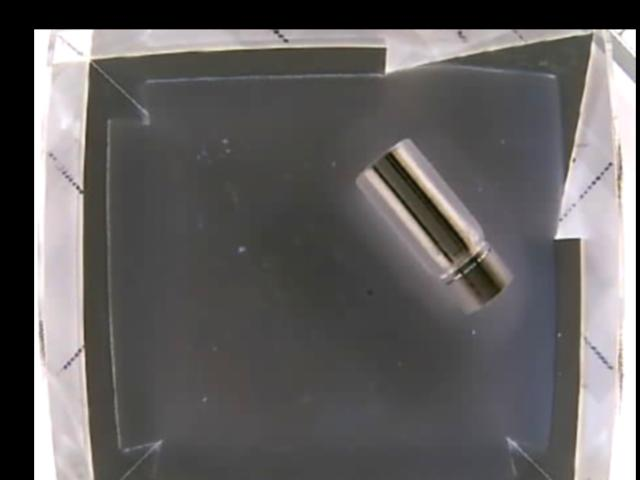Bottle: (356, 137, 512, 316)
